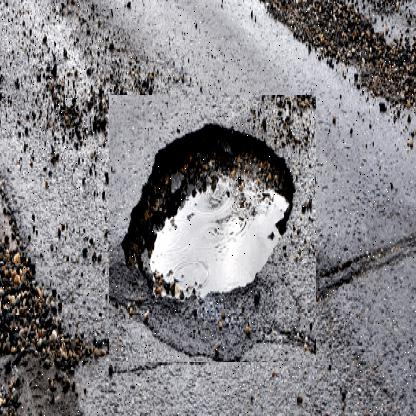pothole_water: (108, 95, 316, 363)
